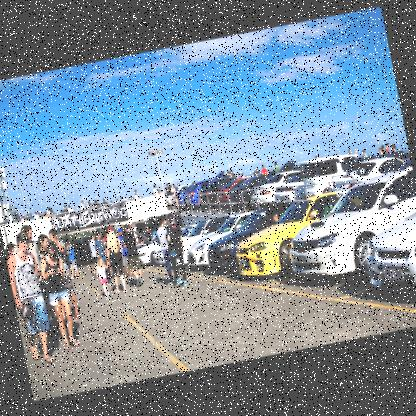Car: (130, 165, 415, 346), (173, 155, 307, 226), (330, 150, 408, 198)
